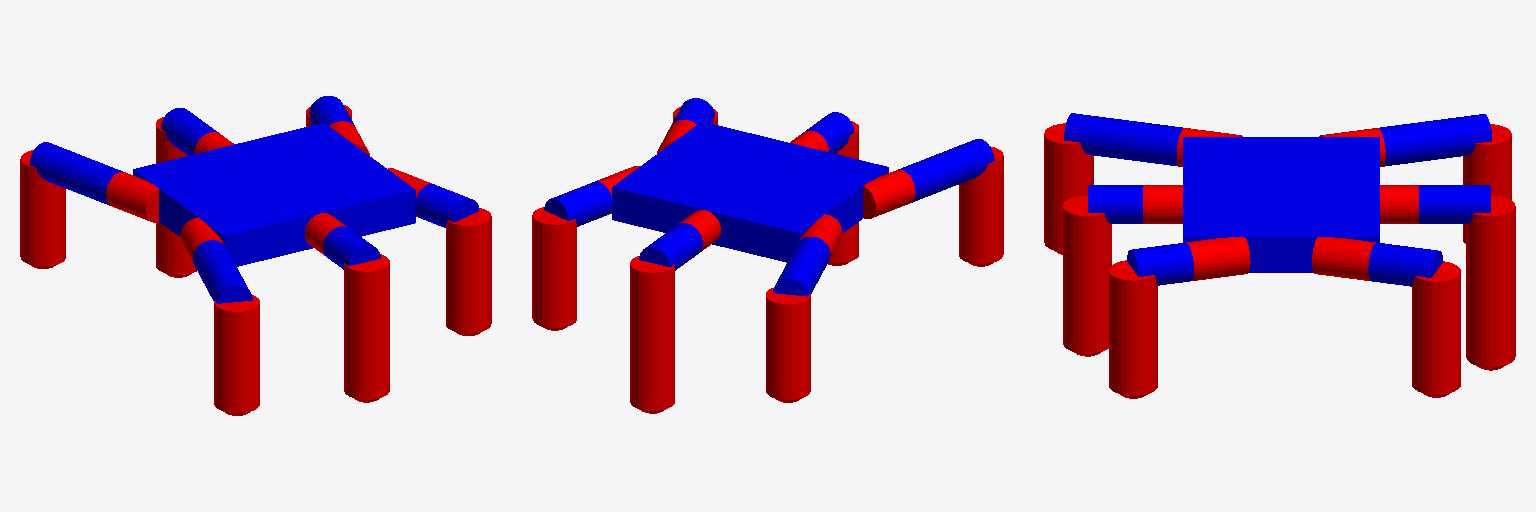
--- Facts derived from the render (not from the file) ---
3 views of the same robot in one strip: view 1: azimuth 30°, elevation 25°; view 2: azimuth 150°, elevation 25°; view 3: azimuth 270°, elevation 25° (orthographic).
Model pexod with 19 links and 18 joints (18 revolute), rooted at base_link, posed every joint at zero.
Visible links, largest first — view 1: base_link, leg_4_3, leg_3_3, leg_5_3, leg_0_3, leg_0_2, leg_5_2, leg_1_3, leg_0_1, leg_3_2, leg_4_2, leg_1_2 (+3 smaller); view 2: base_link, leg_1_3, leg_2_3, leg_0_3, leg_5_3, leg_5_2, leg_0_2, leg_2_2, leg_5_1, leg_1_2, leg_4_3, leg_4_2 (+3 smaller); view 3: base_link, leg_1_3, leg_4_3, leg_3_3, leg_2_3, leg_5_2, leg_0_2, leg_5_3, leg_1_2, leg_0_3, leg_2_2, leg_2_1 (+5 smaller).
Link boxes in pixels (x1,y1,x2,y2): base_link: (133,123,415,266); leg_4_3: (344,254,389,402); leg_3_3: (446,208,491,335); leg_5_3: (214,295,259,415); leg_0_3: (20,150,65,268); leg_0_2: (29,142,122,205); leg_5_2: (193,240,252,303); leg_1_3: (156,117,196,277); leg_0_1: (106,172,158,222); leg_3_2: (415,184,478,227); leg_4_2: (323,226,380,269); leg_1_2: (161,108,218,155); base_link: (612,122,888,262); leg_1_3: (630,256,674,413); leg_2_3: (532,207,576,330); leg_0_3: (766,288,810,402); leg_5_3: (959,146,1003,266); leg_5_2: (898,139,994,202); leg_0_2: (773,237,830,296); leg_2_2: (544,181,612,226); leg_5_1: (863,170,915,218); leg_1_2: (639,223,702,270); leg_4_3: (828,121,858,265); leg_4_2: (806,112,854,153); base_link: (1183,137,1379,272); leg_1_3: (1466,195,1515,370); leg_4_3: (1063,195,1111,356); leg_3_3: (1109,260,1157,398); leg_2_3: (1412,261,1460,397); leg_5_2: (1064,113,1182,166); leg_0_2: (1379,114,1491,166); leg_5_3: (1044,123,1093,254); leg_1_2: (1419,185,1490,223); leg_0_3: (1463,124,1511,243); leg_2_2: (1368,242,1442,286); leg_2_1: (1312,237,1375,280).
Bounding box of the posed robot: 0.3804 × 0.4782 × 0.202 m (x, y, z).
Geometry: primitives only (box / cylinder / sphere), no mesh files.

URDF robot description (pexod):
<?xml version="1.0" ?>
<!-- =================================================================================== -->
<!-- |    This document was autogenerated by xacro from pexod.xacro                    | -->
<!-- |    EDITING THIS FILE BY HAND IS NOT RECOMMENDED                                 | -->
<!-- =================================================================================== -->
<robot name="pexod" xmlns:xacro="http://www.ros.org/wiki/xacro">
  <!-- <xacro:include filename="$(find pexod_description)/urdf/pexod_control.xacro" /> -->
  <!-- MATERIALS -->
  <material name="Blue">
    <color rgba="0 0 1 1"/>
  </material>
  <material name="Red">
    <color rgba="1 0 0 1"/>
  </material>
  <material name="Green">
    <color rgba="0 1 0 1"/>
  </material>
  <material name="Yellow">
    <color rgba="1 1 0 1"/>
  </material>
  <material name="LightGrey">
    <color rgba="0.6 0.6 0.6 1.0"/>
  </material>
  <!-- END OF MATERIALS -->
  <!-- XACRO MACROS FOR VISUALS AND COLLISIONS -->
  <!-- END OF XACRO MACROS -->
  <!-- TORSO -->
  <link name="base_link">
    <visual>
      <origin rpy="0 0 0" xyz="0 0 0"/>
      <geometry>
        <box size="0.24 0.2 0.04"/>
      </geometry>
      <material name="Blue"/>
    </visual>
    <collision>
      <origin rpy="0 0 0" xyz="0 0 0"/>
      <geometry>
        <box size="0.24 0.2 0.04"/>
      </geometry>
    </collision>
    <inertial>
      <!-- CENTER OF MASS -->
      <origin rpy="0 0 0" xyz="0 0 0"/>
      <mass value="1.031"/>
      <!-- box inertia: 1/12*m(y^2+z^2), ... -->
      <inertia ixx="0.00357413333333" ixy="0" ixz="0" iyy="0.00508626666667" iyz="0" izz="0.00838546666667"/>
    </inertial>
  </link>
  <!-- XACRO MACRO FOR LEGS LINKS/JOINTS -->
  <!-- END OF LEG LINKS/JOINTS -->
  <joint name="body_leg_2" type="revolute">
    <parent link="base_link"/>
    <child link="leg_2_1"/>
    <limit effort="30.0" lower="-1.57079632679" upper="1.57079632679" velocity="7.0"/>
    <origin rpy="0 0 -0.3" xyz="0.11 0.04 0"/>
    <!-- <xacro:if value="${index == 5 or index == 4 or index == 3}">
                <axis xyz="0 0 1"/>
            </xacro:if>
            <xacro:if value="${index == 2 or index == 1 or index == 0}"> -->
    <axis xyz="0 0 1"/>
    <!-- </xacro:if> -->
    <dynamics damping="0.0"/>
  </joint>
  <link name="leg_2_1">
    <visual>
      <origin rpy="1.57079632679 0 0" xyz="0.01 0.03 0"/>
      <geometry>
        <cylinder length="0.06" radius="0.02"/>
      </geometry>
      <material name="Red"/>
    </visual>
    <collision>
      <origin rpy="1.57079632679 0 0" xyz="0.01 0.03 0"/>
      <geometry>
        <box size="0.02 0.02 0.06"/>
      </geometry>
    </collision>
    <inertial>
      <!-- CENTER OF MASS -->
      <origin rpy="1.57079632679 0 0" xyz="0.01 0.03 0"/>
      <mass value="0.02"/>
      <!-- box inertia: 1/12*m(y^2+z^2), ... -->
      <inertia ixx="6.66666666667e-06" ixy="0" ixz="0" iyy="6.66666666667e-06" iyz="0" izz="1.33333333333e-06"/>
    </inertial>
  </link>
  <joint name="leg_2_1_2" type="revolute">
    <parent link="leg_2_1"/>
    <child link="leg_2_2"/>
    <limit effort="30.0" lower="-0.78539816339" upper="0.78539816339" velocity="7.0"/>
    <origin rpy="0 0 0" xyz="0 0.06 0"/>
    <axis xyz="1 0 0"/>
    <dynamics damping="0.0"/>
  </joint>
  <link name="leg_2_2">
    <visual>
      <origin rpy="1.57079632679 0 0" xyz="0.01 0.0335078514516 0"/>
      <geometry>
        <cylinder length="0.0670157029032" radius="0.02"/>
      </geometry>
      <material name="Blue"/>
    </visual>
    <collision>
      <origin rpy="1.57079632679 0 0" xyz="0.01 0.0335078514516 0"/>
      <geometry>
        <box size="0.02 0.02 0.0670157029032"/>
      </geometry>
    </collision>
    <inertial>
      <!-- CENTER OF MASS -->
      <origin rpy="1.57079632679 0 0" xyz="0.01 0.0335078514516 0"/>
      <mass value="0.184"/>
      <!-- box inertia: 1/12*m(y^2+z^2), ... -->
      <inertia ixx="7.49969346794e-05" ixy="0" ixz="0" iyy="7.49969346794e-05" iyz="0" izz="1.22666666667e-05"/>
    </inertial>
  </link>
  <joint name="leg_2_2_3" type="revolute">
    <parent link="leg_2_2"/>
    <child link="leg_2_3"/>
    <limit effort="30.0" lower="-0.78539816339" upper="0.78539816339" velocity="7.0"/>
    <origin rpy="-1.57079632679 0 0" xyz="0 0.0670157029032 0"/>
    <axis xyz="-1 0 0"/>
    <dynamics damping="0.0"/>
  </joint>
  <link name="leg_2_3">
    <visual>
      <origin rpy="1.57079632679 0 0" xyz="0.0125 0.063440240793 0"/>
      <geometry>
        <cylinder length="0.126880481586" radius="0.025"/>
      </geometry>
      <material name="Red"/>
    </visual>
    <visual>
      <origin rpy="1.57079632679 0 0" xyz="0.0125 0.114380481586 0"/>
      <geometry>
        <sphere radius="0.025"/>
      </geometry>
      <material name="Red"/>
    </visual>
    <collision>
      <origin rpy="1.57079632679 0 0" xyz="0.0125 0.063440240793 0"/>
      <geometry>
        <box size="0.025 0.025 0.126880481586"/>
      </geometry>
    </collision>
    <collision>
      <origin rpy="1.57079632679 0 0" xyz="0.0125 0.114380481586 0"/>
      <geometry>
        <sphere radius="0.025"/>
      </geometry>
      <material name="Red"/>
    </collision>
    <inertial>
      <!-- CENTER OF MASS -->
      <origin rpy="1.57079632679 0 0" xyz="0.0125 0.063440240793 0"/>
      <mass value="0.04"/>
      <!-- box inertia: 1/12*m(y^2+z^2), ... -->
      <inertia ixx="5.5745522025e-05" ixy="0" ixz="0" iyy="5.5745522025e-05" iyz="0" izz="4.16666666667e-06"/>
    </inertial>
  </link>
  <joint name="body_leg_3" type="revolute">
    <parent link="base_link"/>
    <child link="leg_3_1"/>
    <limit effort="30.0" lower="-1.57079632679" upper="1.57079632679" velocity="7.0"/>
    <origin rpy="0 0 0.3" xyz="0.11 -0.04 0"/>
    <!-- <xacro:if value="${index == 5 or index == 4 or index == 3}">
                <axis xyz="0 0 1"/>
            </xacro:if>
            <xacro:if value="${index == 2 or index == 1 or index == 0}"> -->
    <axis xyz="0 0 1"/>
    <!-- </xacro:if> -->
    <dynamics damping="0.0"/>
  </joint>
  <link name="leg_3_1">
    <visual>
      <origin rpy="1.57079632679 0 0" xyz="0.01 -0.03 0"/>
      <geometry>
        <cylinder length="0.06" radius="0.02"/>
      </geometry>
      <material name="Red"/>
    </visual>
    <collision>
      <origin rpy="1.57079632679 0 0" xyz="0.01 -0.03 0"/>
      <geometry>
        <box size="0.02 0.02 0.06"/>
      </geometry>
    </collision>
    <inertial>
      <!-- CENTER OF MASS -->
      <origin rpy="1.57079632679 0 0" xyz="0.01 -0.03 0"/>
      <mass value="0.02"/>
      <!-- box inertia: 1/12*m(y^2+z^2), ... -->
      <inertia ixx="6.66666666667e-06" ixy="0" ixz="0" iyy="6.66666666667e-06" iyz="0" izz="1.33333333333e-06"/>
    </inertial>
  </link>
  <joint name="leg_3_1_2" type="revolute">
    <parent link="leg_3_1"/>
    <child link="leg_3_2"/>
    <limit effort="30.0" lower="-0.78539816339" upper="0.78539816339" velocity="7.0"/>
    <origin rpy="0 0 0" xyz="0 -0.06 0"/>
    <axis xyz="-1 0 0"/>
    <dynamics damping="0.0"/>
  </joint>
  <link name="leg_3_2">
    <visual>
      <origin rpy="1.57079632679 0 0" xyz="0.01 -0.0294443562325 0"/>
      <geometry>
        <cylinder length="0.058888712465" radius="0.02"/>
      </geometry>
      <material name="Blue"/>
    </visual>
    <collision>
      <origin rpy="1.57079632679 0 0" xyz="0.01 -0.0294443562325 0"/>
      <geometry>
        <box size="0.02 0.02 0.058888712465"/>
      </geometry>
    </collision>
    <inertial>
      <!-- CENTER OF MASS -->
      <origin rpy="1.57079632679 0 0" xyz="0.01 -0.0294443562325 0"/>
      <mass value="0.184"/>
      <!-- box inertia: 1/12*m(y^2+z^2), ... -->
      <inertia ixx="5.9307500322e-05" ixy="0" ixz="0" iyy="5.9307500322e-05" iyz="0" izz="1.22666666667e-05"/>
    </inertial>
  </link>
  <joint name="leg_3_2_3" type="revolute">
    <parent link="leg_3_2"/>
    <child link="leg_3_3"/>
    <limit effort="30.0" lower="-0.78539816339" upper="0.78539816339" velocity="7.0"/>
    <origin rpy="1.57079632679 0 0" xyz="0 -0.058888712465 0"/>
    <axis xyz="1 0 0"/>
    <dynamics damping="0.0"/>
  </joint>
  <link name="leg_3_3">
    <visual>
      <origin rpy="1.57079632679 0 0" xyz="0.0125 -0.064619106768 0"/>
      <geometry>
        <cylinder length="0.129238213536" radius="0.025"/>
      </geometry>
      <material name="Red"/>
    </visual>
    <visual>
      <origin rpy="1.57079632679 0 0" xyz="0.0125 -0.116738213536 0"/>
      <geometry>
        <sphere radius="0.025"/>
      </geometry>
      <material name="Red"/>
    </visual>
    <collision>
      <origin rpy="1.57079632679 0 0" xyz="0.0125 -0.064619106768 0"/>
      <geometry>
        <box size="0.025 0.025 0.129238213536"/>
      </geometry>
    </collision>
    <collision>
      <origin rpy="1.57079632679 0 0" xyz="0.0125 -0.116738213536 0"/>
      <geometry>
        <sphere radius="0.025"/>
      </geometry>
      <material name="Red"/>
    </collision>
    <inertial>
      <!-- CENTER OF MASS -->
      <origin rpy="1.57079632679 0 0" xyz="0.0125 -0.064619106768 0"/>
      <mass value="0.04"/>
      <!-- box inertia: 1/12*m(y^2+z^2), ... -->
      <inertia ixx="5.77583861266e-05" ixy="0" ixz="0" iyy="5.77583861266e-05" iyz="0" izz="4.16666666667e-06"/>
    </inertial>
  </link>
  <joint name="body_leg_0" type="revolute">
    <parent link="base_link"/>
    <child link="leg_0_1"/>
    <limit effort="30.0" lower="-1.57079632679" upper="1.57079632679" velocity="7.0"/>
    <origin rpy="0 0 0.3" xyz="-0.13 0.04 0"/>
    <!-- <xacro:if value="${index == 5 or index == 4 or index == 3}">
                <axis xyz="0 0 1"/>
            </xacro:if>
            <xacro:if value="${index == 2 or index == 1 or index == 0}"> -->
    <axis xyz="0 0 1"/>
    <!-- </xacro:if> -->
    <dynamics damping="0.0"/>
  </joint>
  <link name="leg_0_1">
    <visual>
      <origin rpy="1.57079632679 0 0" xyz="0.01 0.03 0"/>
      <geometry>
        <cylinder length="0.06" radius="0.02"/>
      </geometry>
      <material name="Red"/>
    </visual>
    <collision>
      <origin rpy="1.57079632679 0 0" xyz="0.01 0.03 0"/>
      <geometry>
        <box size="0.02 0.02 0.06"/>
      </geometry>
    </collision>
    <inertial>
      <!-- CENTER OF MASS -->
      <origin rpy="1.57079632679 0 0" xyz="0.01 0.03 0"/>
      <mass value="0.02"/>
      <!-- box inertia: 1/12*m(y^2+z^2), ... -->
      <inertia ixx="6.66666666667e-06" ixy="0" ixz="0" iyy="6.66666666667e-06" iyz="0" izz="1.33333333333e-06"/>
    </inertial>
  </link>
  <joint name="leg_0_1_2" type="revolute">
    <parent link="leg_0_1"/>
    <child link="leg_0_2"/>
    <limit effort="30.0" lower="-0.78539816339" upper="0.78539816339" velocity="7.0"/>
    <origin rpy="0 0 0" xyz="0 0.06 0"/>
    <axis xyz="1 0 0"/>
    <dynamics damping="0.0"/>
  </joint>
  <link name="leg_0_2">
    <visual>
      <origin rpy="1.57079632679 0 0" xyz="0.01 0.0566365063405 0"/>
      <geometry>
        <cylinder length="0.113273012681" radius="0.02"/>
      </geometry>
      <material name="Blue"/>
    </visual>
    <collision>
      <origin rpy="1.57079632679 0 0" xyz="0.01 0.0566365063405 0"/>
      <geometry>
        <box size="0.02 0.02 0.113273012681"/>
      </geometry>
    </collision>
    <inertial>
      <!-- CENTER OF MASS -->
      <origin rpy="1.57079632679 0 0" xyz="0.01 0.0566365063405 0"/>
      <mass value="0.184"/>
      <!-- box inertia: 1/12*m(y^2+z^2), ... -->
      <inertia ixx="0.000202871889495" ixy="0" ixz="0" iyy="0.000202871889495" iyz="0" izz="1.22666666667e-05"/>
    </inertial>
  </link>
  <joint name="leg_0_2_3" type="revolute">
    <parent link="leg_0_2"/>
    <child link="leg_0_3"/>
    <limit effort="30.0" lower="-0.78539816339" upper="0.78539816339" velocity="7.0"/>
    <origin rpy="-1.57079632679 0 0" xyz="0 0.113273012681 0"/>
    <axis xyz="-1 0 0"/>
    <dynamics damping="0.0"/>
  </joint>
  <link name="leg_0_3">
    <visual>
      <origin rpy="1.57079632679 0 0" xyz="0.0125 0.058847908153 0"/>
      <geometry>
        <cylinder length="0.117695816306" radius="0.025"/>
      </geometry>
      <material name="Red"/>
    </visual>
    <visual>
      <origin rpy="1.57079632679 0 0" xyz="0.0125 0.105195816306 0"/>
      <geometry>
        <sphere radius="0.025"/>
      </geometry>
      <material name="Red"/>
    </visual>
    <collision>
      <origin rpy="1.57079632679 0 0" xyz="0.0125 0.058847908153 0"/>
      <geometry>
        <box size="0.025 0.025 0.117695816306"/>
      </geometry>
    </collision>
    <collision>
      <origin rpy="1.57079632679 0 0" xyz="0.0125 0.105195816306 0"/>
      <geometry>
        <sphere radius="0.025"/>
      </geometry>
      <material name="Red"/>
    </collision>
    <inertial>
      <!-- CENTER OF MASS -->
      <origin rpy="1.57079632679 0 0" xyz="0.0125 0.058847908153 0"/>
      <mass value="0.04"/>
      <!-- box inertia: 1/12*m(y^2+z^2), ... -->
      <inertia ixx="4.82576839198e-05" ixy="0" ixz="0" iyy="4.82576839198e-05" iyz="0" izz="4.16666666667e-06"/>
    </inertial>
  </link>
  <joint name="body_leg_5" type="revolute">
    <parent link="base_link"/>
    <child link="leg_5_1"/>
    <limit effort="30.0" lower="-1.57079632679" upper="1.57079632679" velocity="7.0"/>
    <origin rpy="0 0 -0.3" xyz="-0.13 -0.04 0"/>
    <!-- <xacro:if value="${index == 5 or index == 4 or index == 3}">
                <axis xyz="0 0 1"/>
            </xacro:if>
            <xacro:if value="${index == 2 or index == 1 or index == 0}"> -->
    <axis xyz="0 0 1"/>
    <!-- </xacro:if> -->
    <dynamics damping="0.0"/>
  </joint>
  <link name="leg_5_1">
    <visual>
      <origin rpy="1.57079632679 0 0" xyz="0.01 -0.03 0"/>
      <geometry>
        <cylinder length="0.06" radius="0.02"/>
      </geometry>
      <material name="Red"/>
    </visual>
    <collision>
      <origin rpy="1.57079632679 0 0" xyz="0.01 -0.03 0"/>
      <geometry>
        <box size="0.02 0.02 0.06"/>
      </geometry>
    </collision>
    <inertial>
      <!-- CENTER OF MASS -->
      <origin rpy="1.57079632679 0 0" xyz="0.01 -0.03 0"/>
      <mass value="0.02"/>
      <!-- box inertia: 1/12*m(y^2+z^2), ... -->
      <inertia ixx="6.66666666667e-06" ixy="0" ixz="0" iyy="6.66666666667e-06" iyz="0" izz="1.33333333333e-06"/>
    </inertial>
  </link>
  <joint name="leg_5_1_2" type="revolute">
    <parent link="leg_5_1"/>
    <child link="leg_5_2"/>
    <limit effort="30.0" lower="-0.78539816339" upper="0.78539816339" velocity="7.0"/>
    <origin rpy="0 0 0" xyz="0 -0.06 0"/>
    <axis xyz="-1 0 0"/>
    <dynamics damping="0.0"/>
  </joint>
  <link name="leg_5_2">
    <visual>
      <origin rpy="1.57079632679 0 0" xyz="0.01 -0.059879205198 0"/>
      <geometry>
        <cylinder length="0.119758410396" radius="0.02"/>
      </geometry>
      <material name="Blue"/>
    </visual>
    <collision>
      <origin rpy="1.57079632679 0 0" xyz="0.01 -0.059879205198 0"/>
      <geometry>
        <box size="0.02 0.02 0.119758410396"/>
      </geometry>
    </collision>
    <inertial>
      <!-- CENTER OF MASS -->
      <origin rpy="1.57079632679 0 0" xyz="0.01 -0.059879205198 0"/>
      <mass value="0.184"/>
      <!-- box inertia: 1/12*m(y^2+z^2), ... -->
      <inertia ixx="0.000226045178529" ixy="0" ixz="0" iyy="0.000226045178529" iyz="0" izz="1.22666666667e-05"/>
    </inertial>
  </link>
  <joint name="leg_5_2_3" type="revolute">
    <parent link="leg_5_2"/>
    <child link="leg_5_3"/>
    <limit effort="30.0" lower="-0.78539816339" upper="0.78539816339" velocity="7.0"/>
    <origin rpy="1.57079632679 0 0" xyz="0 -0.119758410396 0"/>
    <axis xyz="1 0 0"/>
    <dynamics damping="0.0"/>
  </joint>
  <link name="leg_5_3">
    <visual>
      <origin rpy="1.57079632679 0 0" xyz="0.0125 -0.0609845578095 0"/>
      <geometry>
        <cylinder length="0.121969115619" radius="0.025"/>
      </geometry>
      <material name="Red"/>
    </visual>
    <visual>
      <origin rpy="1.57079632679 0 0" xyz="0.0125 -0.109469115619 0"/>
      <geometry>
        <sphere radius="0.025"/>
      </geometry>
      <material name="Red"/>
    </visual>
    <collision>
      <origin rpy="1.57079632679 0 0" xyz="0.0125 -0.0609845578095 0"/>
      <geometry>
        <box size="0.025 0.025 0.121969115619"/>
      </geometry>
    </collision>
    <collision>
      <origin rpy="1.57079632679 0 0" xyz="0.0125 -0.109469115619 0"/>
      <geometry>
        <sphere radius="0.025"/>
      </geometry>
      <material name="Red"/>
    </collision>
    <inertial>
      <!-- CENTER OF MASS -->
      <origin rpy="1.57079632679 0 0" xyz="0.0125 -0.0609845578095 0"/>
      <mass value="0.04"/>
      <!-- box inertia: 1/12*m(y^2+z^2), ... -->
      <inertia ixx="5.16715505496e-05" ixy="0" ixz="0" iyy="5.16715505496e-05" iyz="0" izz="4.16666666667e-06"/>
    </inertial>
  </link>
  <joint name="body_leg_1" type="revolute">
    <parent link="base_link"/>
    <child link="leg_1_1"/>
    <limit effort="30.0" lower="-1.57079632679" upper="1.57079632679" velocity="7.0"/>
    <origin rpy="0 0 0" xyz="-0.01 0.08 0"/>
    <!-- <xacro:if value="${index == 5 or index == 4 or index == 3}">
                <axis xyz="0 0 1"/>
            </xacro:if>
            <xacro:if value="${index == 2 or index == 1 or index == 0}"> -->
    <axis xyz="0 0 1"/>
    <!-- </xacro:if> -->
    <dynamics damping="0.0"/>
  </joint>
  <link name="leg_1_1">
    <visual>
      <origin rpy="1.57079632679 0 0" xyz="0.01 0.03 0"/>
      <geometry>
        <cylinder length="0.06" radius="0.02"/>
      </geometry>
      <material name="Red"/>
    </visual>
    <collision>
      <origin rpy="1.57079632679 0 0" xyz="0.01 0.03 0"/>
      <geometry>
        <box size="0.02 0.02 0.06"/>
      </geometry>
    </collision>
    <inertial>
      <!-- CENTER OF MASS -->
      <origin rpy="1.57079632679 0 0" xyz="0.01 0.03 0"/>
      <mass value="0.02"/>
      <!-- box inertia: 1/12*m(y^2+z^2), ... -->
      <inertia ixx="6.66666666667e-06" ixy="0" ixz="0" iyy="6.66666666667e-06" iyz="0" izz="1.33333333333e-06"/>
    </inertial>
  </link>
  <joint name="leg_1_1_2" type="revolute">
    <parent link="leg_1_1"/>
    <child link="leg_1_2"/>
    <limit effort="30.0" lower="-0.78539816339" upper="0.78539816339" velocity="7.0"/>
    <origin rpy="0 0 0" xyz="0 0.06 0"/>
    <axis xyz="1 0 0"/>
    <dynamics damping="0.0"/>
  </joint>
  <link name="leg_1_2">
    <visual>
      <origin rpy="1.57079632679 0 0" xyz="0.01 0.0364175303928 0"/>
      <geometry>
        <cylinder length="0.0728350607857" radius="0.02"/>
      </geometry>
      <material name="Blue"/>
    </visual>
    <collision>
      <origin rpy="1.57079632679 0 0" xyz="0.01 0.0364175303928 0"/>
      <geometry>
        <box size="0.02 0.02 0.0728350607857"/>
      </geometry>
    </collision>
    <inertial>
      <!-- CENTER OF MASS -->
      <origin rpy="1.57079632679 0 0" xyz="0.01 0.0364175303928 0"/>
      <mass value="0.184"/>
      <!-- box inertia: 1/12*m(y^2+z^2), ... -->
      <inertia ixx="8.74758398881e-05" ixy="0" ixz="0" iyy="8.74758398881e-05" iyz="0" izz="1.22666666667e-05"/>
    </inertial>
  </link>
  <joint name="leg_1_2_3" type="revolute">
    <parent link="leg_1_2"/>
    <child link="leg_1_3"/>
    <limit effort="30.0" lower="-0.78539816339" upper="0.78539816339" velocity="7.0"/>
    <origin rpy="-1.57079632679 0 0" xyz="0 0.0728350607857 0"/>
    <axis xyz="-1 0 0"/>
    <dynamics damping="0.0"/>
  </joint>
  <link name="leg_1_3">
    <visual>
      <origin rpy="1.57079632679 0 0" xyz="0.0125 0.0847637224575 0"/>
      <geometry>
        <cylinder length="0.169527444915" radius="0.025"/>
      </geometry>
      <material name="Red"/>
    </visual>
    <visual>
      <origin rpy="1.57079632679 0 0" xyz="0.0125 0.157027444915 0"/>
      <geometry>
        <sphere radius="0.025"/>
      </geometry>
      <material name="Red"/>
    </visual>
    <collision>
      <origin rpy="1.57079632679 0 0" xyz="0.0125 0.0847637224575 0"/>
      <geometry>
        <box size="0.025 0.025 0.169527444915"/>
      </geometry>
    </collision>
    <collision>
      <origin rpy="1.57079632679 0 0" xyz="0.0125 0.157027444915 0"/>
      <geometry>
        <sphere radius="0.025"/>
      </geometry>
      <material name="Red"/>
    </collision>
    <inertial>
      <!-- CENTER OF MASS -->
      <origin rpy="1.57079632679 0 0" xyz="0.0125 0.0847637224575 0"/>
      <mass value="0.04"/>
      <!-- box inertia: 1/12*m(y^2+z^2), ... -->
      <inertia ixx="9.7881848598e-05" ixy="0" ixz="0" iyy="9.7881848598e-05" iyz="0" izz="4.16666666667e-06"/>
    </inertial>
  </link>
  <joint name="body_leg_4" type="revolute">
    <parent link="base_link"/>
    <child link="leg_4_1"/>
    <limit effort="30.0" lower="-1.57079632679" upper="1.57079632679" velocity="7.0"/>
    <origin rpy="0 0 0" xyz="-0.01 -0.08 0"/>
    <!-- <xacro:if value="${index == 5 or index == 4 or index == 3}">
                <axis xyz="0 0 1"/>
            </xacro:if>
            <xacro:if value="${index == 2 or index == 1 or index == 0}"> -->
    <axis xyz="0 0 1"/>
    <!-- </xacro:if> -->
    <dynamics damping="0.0"/>
  </joint>
  <link name="leg_4_1">
    <visual>
      <origin rpy="1.57079632679 0 0" xyz="0.01 -0.03 0"/>
      <geometry>
        <cylinder length="0.06" radius="0.02"/>
      </geometry>
      <material name="Red"/>
    </visual>
    <collision>
      <origin rpy="1.57079632679 0 0" xyz="0.01 -0.03 0"/>
      <geometry>
        <box size="0.02 0.02 0.06"/>
      </geometry>
    </collision>
    <inertial>
      <!-- CENTER OF MASS -->
      <origin rpy="1.57079632679 0 0" xyz="0.01 -0.03 0"/>
      <mass value="0.02"/>
      <!-- box inertia: 1/12*m(y^2+z^2), ... -->
      <inertia ixx="6.66666666667e-06" ixy="0" ixz="0" iyy="6.66666666667e-06" iyz="0" izz="1.33333333333e-06"/>
    </inertial>
  </link>
  <joint name="leg_4_1_2" type="revolute">
    <parent link="leg_4_1"/>
    <child link="leg_4_2"/>
    <limit effort="30.0" lower="-0.78539816339" upper="0.78539816339" velocity="7.0"/>
    <origin rpy="0 0 0" xyz="0 -0.06 0"/>
    <axis xyz="-1 0 0"/>
    <dynamics damping="0.0"/>
  </joint>
  <link name="leg_4_2">
    <visual>
      <origin rpy="1.57079632679 0 0" xyz="0.01 -0.0282885379933 0"/>
      <geometry>
        <cylinder length="0.0565770759867" radius="0.02"/>
      </geometry>
      <material name="Blue"/>
    </visual>
    <collision>
      <origin rpy="1.57079632679 0 0" xyz="0.01 -0.0282885379933 0"/>
      <geometry>
        <box size="0.02 0.02 0.0565770759867"/>
      </geometry>
    </collision>
    <inertial>
      <!-- CENTER OF MASS -->
      <origin rpy="1.57079632679 0 0" xyz="0.01 -0.0282885379933 0"/>
      <mass value="0.184"/>
      <!-- box inertia: 1/12*m(y^2+z^2), ... -->
      <inertia ixx="5.52148047505e-05" ixy="0" ixz="0" iyy="5.52148047505e-05" iyz="0" izz="1.22666666667e-05"/>
    </inertial>
  </link>
  <joint name="leg_4_2_3" type="revolute">
    <parent link="leg_4_2"/>
    <child link="leg_4_3"/>
    <limit effort="30.0" lower="-0.78539816339" upper="0.78539816339" velocity="7.0"/>
    <origin rpy="1.57079632679 0 0" xyz="0 -0.0565770759867 0"/>
    <axis xyz="1 0 0"/>
    <dynamics damping="0.0"/>
  </joint>
  <link name="leg_4_3">
    <visual>
      <origin rpy="1.57079632679 0 0" xyz="0.0125 -0.076967126786 0"/>
      <geometry>
        <cylinder length="0.153934253572" radius="0.025"/>
      </geometry>
      <material name="Red"/>
    </visual>
    <visual>
      <origin rpy="1.57079632679 0 0" xyz="0.0125 -0.141434253572 0"/>
      <geometry>
        <sphere radius="0.025"/>
      </geometry>
      <material name="Red"/>
    </visual>
    <collision>
      <origin rpy="1.57079632679 0 0" xyz="0.0125 -0.076967126786 0"/>
      <geometry>
        <box size="0.025 0.025 0.153934253572"/>
      </geometry>
    </collision>
    <collision>
      <origin rpy="1.57079632679 0 0" xyz="0.0125 -0.141434253572 0"/>
      <geometry>
        <sphere radius="0.025"/>
      </geometry>
      <material name="Red"/>
    </collision>
    <inertial>
      <!-- CENTER OF MASS -->
      <origin rpy="1.57079632679 0 0" xyz="0.0125 -0.076967126786 0"/>
      <mass value="0.04"/>
      <!-- box inertia: 1/12*m(y^2+z^2), ... -->
      <inertia ixx="8.10691814092e-05" ixy="0" ixz="0" iyy="8.10691814092e-05" iyz="0" izz="4.16666666667e-06"/>
    </inertial>
  </link>
  <!-- END OF LEG LINKS/JOINTS -->
</robot>
